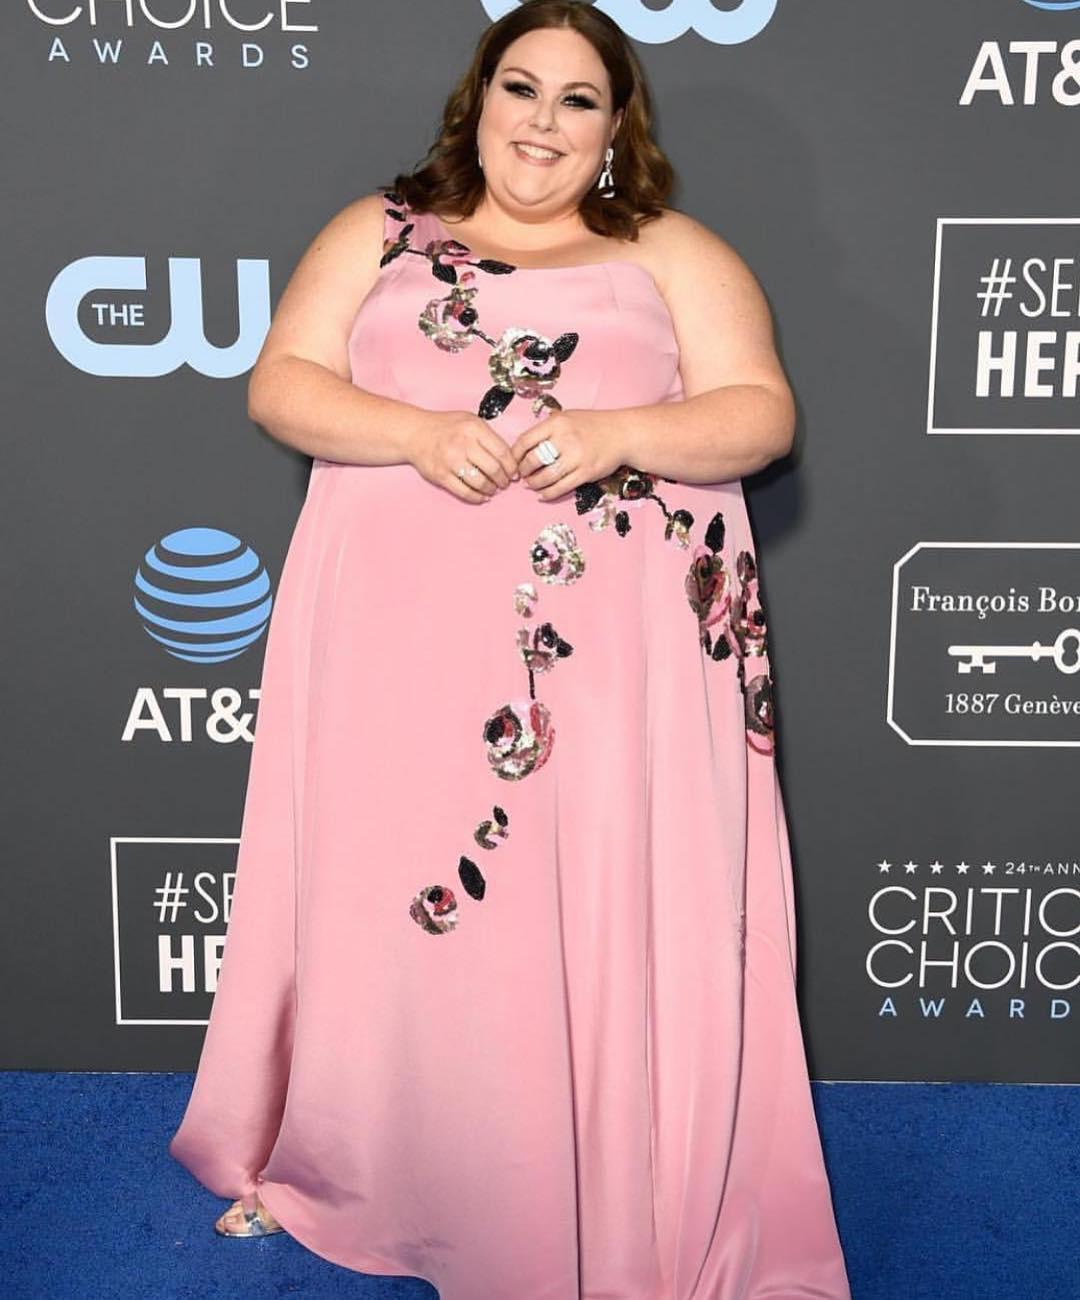hand: (516, 422, 619, 485)
